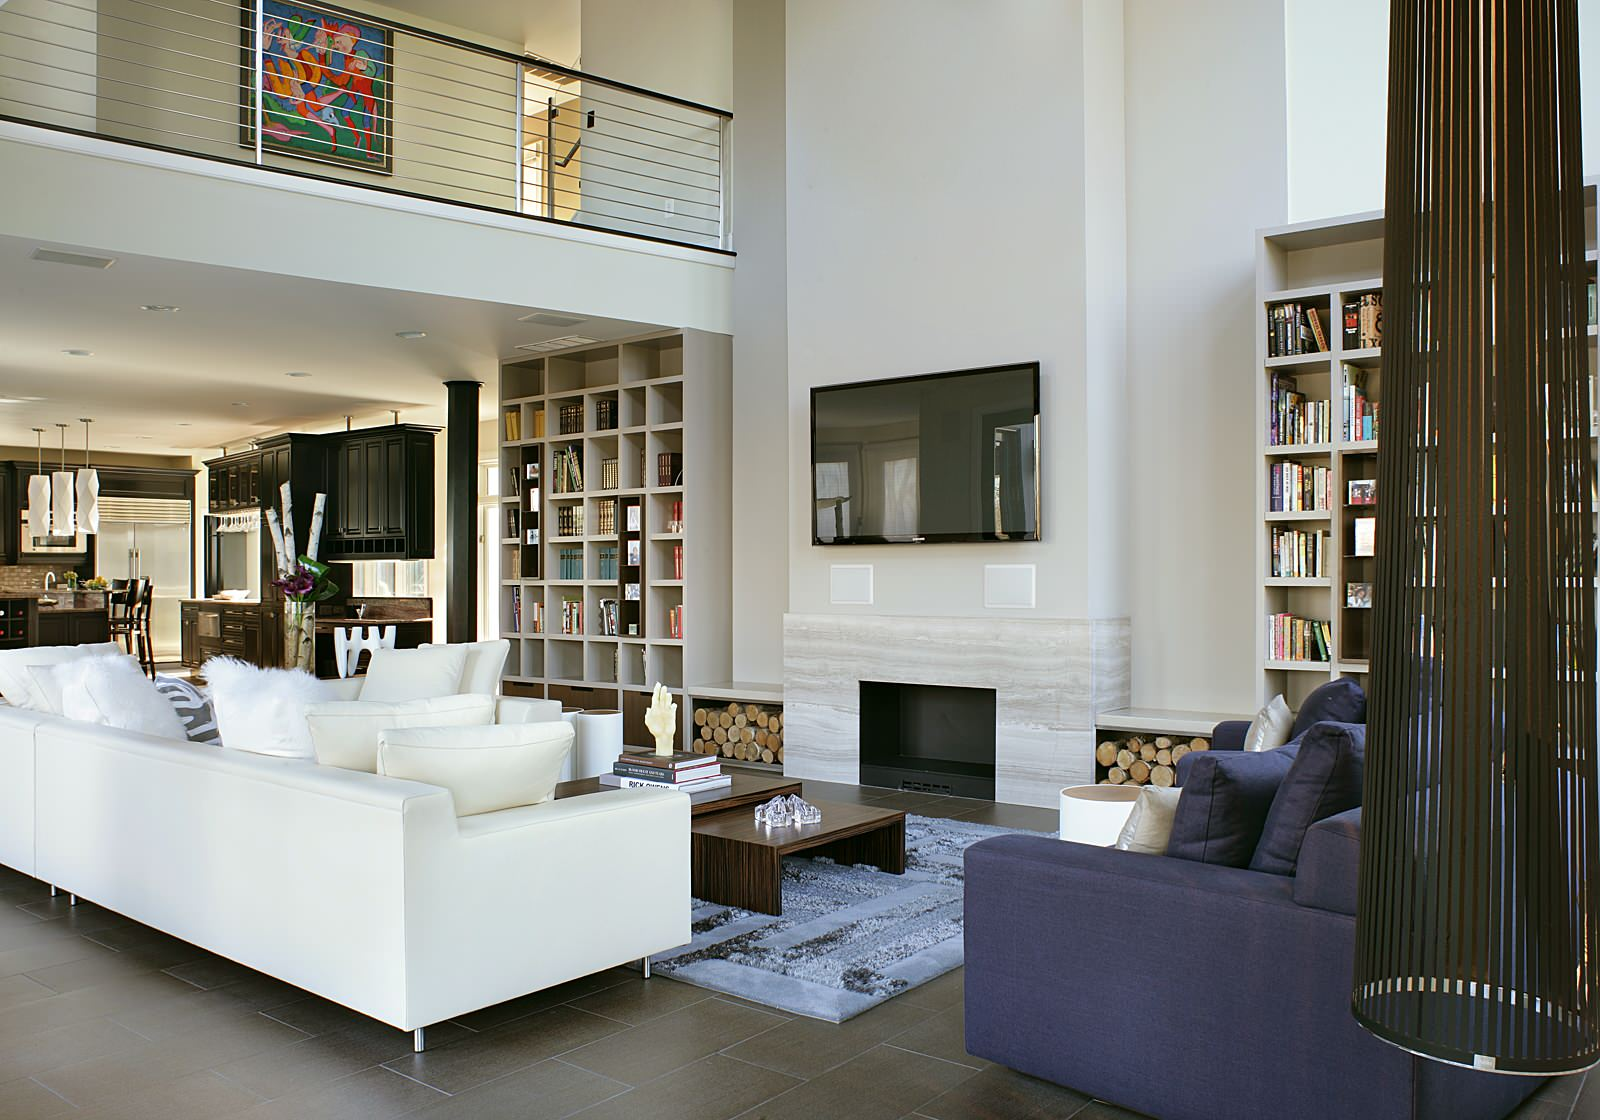TV: (802, 355, 1049, 551)
chair: (957, 717, 1591, 1120)
sofa: (0, 626, 704, 1062)
table: (556, 735, 911, 914)
